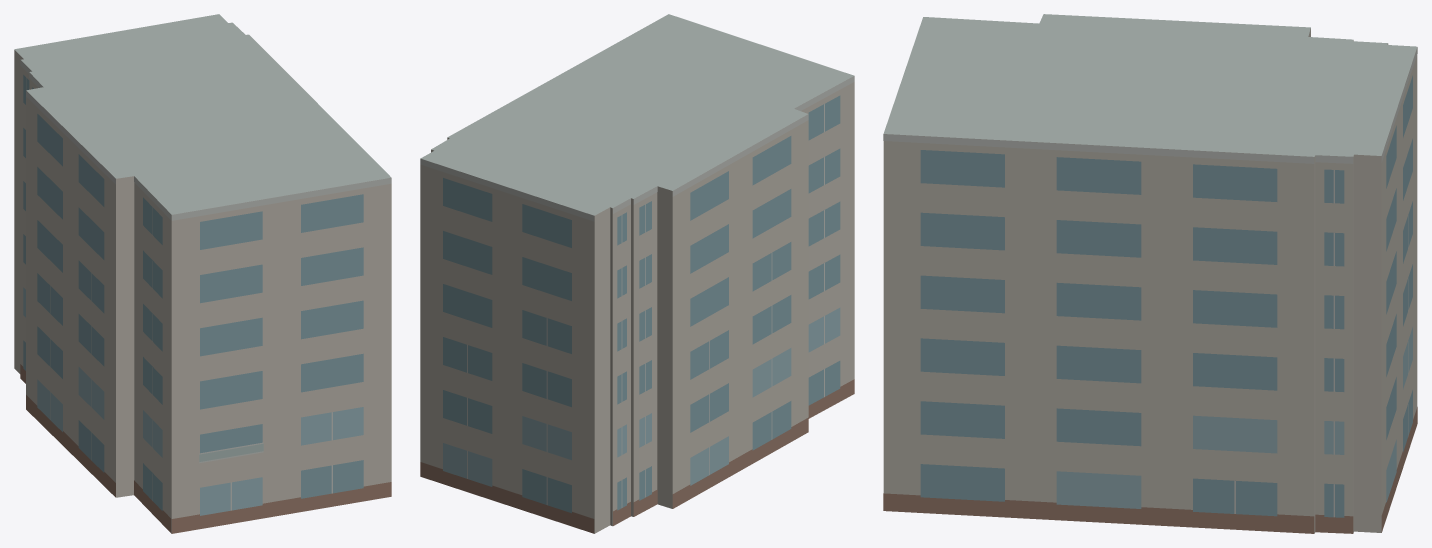
The model's file is survey-upis-32893373.glb.
3 views of the same model, side by side, from view 1: azimuth 30°, elevation 25°; view 2: azimuth 150°, elevation 25°; view 3: azimuth 270°, elevation 25° (orthographic). The views are drawn at different scales.
Visible parts, largest first — view 1: survey-upis-32893373.tmp; view 2: survey-upis-32893373.tmp; view 3: survey-upis-32893373.tmp.
Part boxes in pixels (x1,y1,x2,y2): survey-upis-32893373.tmp: [14, 14, 391, 533]; survey-upis-32893373.tmp: [420, 14, 854, 533]; survey-upis-32893373.tmp: [883, 14, 1417, 533].
Bounding box in the file's own units: 10.53 × 12.95 × 16.64.
